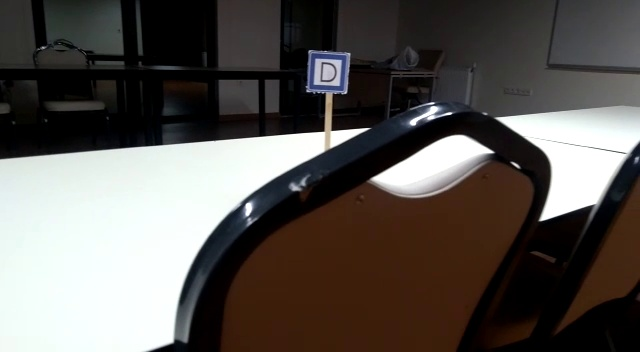durak: (308, 51, 349, 91)
